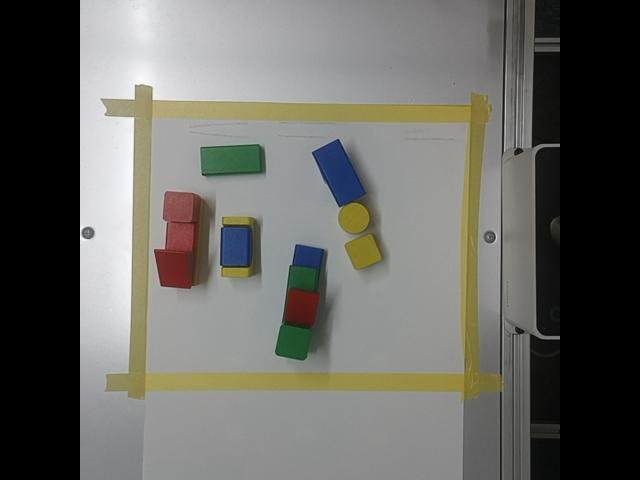blue_rect: (313, 138, 365, 204)
cylinder: (340, 203, 370, 231)
green_cube: (276, 323, 311, 360)
green_rect: (201, 144, 260, 173)
half_cylinder: (221, 226, 250, 265)
red_cube: (163, 191, 195, 221)
triangle: (154, 249, 194, 288), (286, 287, 318, 325)
yellow_archrect: (221, 216, 261, 276)
yellow_cube: (345, 232, 382, 268)
